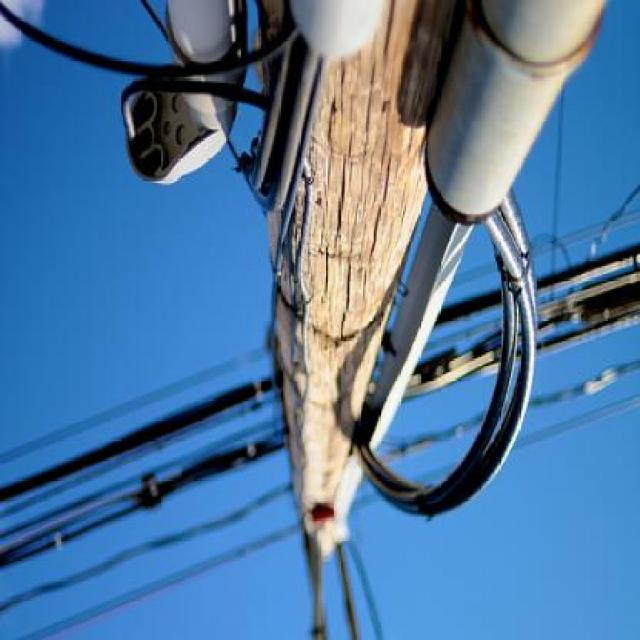pole: (262, 0, 432, 626)
